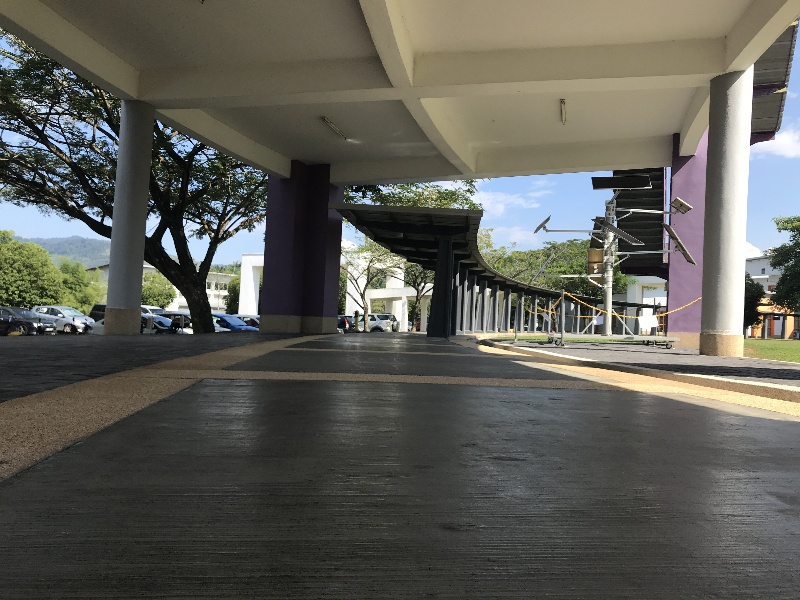Block D Pillar 5: (4, 5, 800, 552)
pillar: (255, 146, 352, 336), (698, 67, 759, 369), (97, 90, 162, 340), (664, 123, 716, 349), (416, 226, 461, 339)
